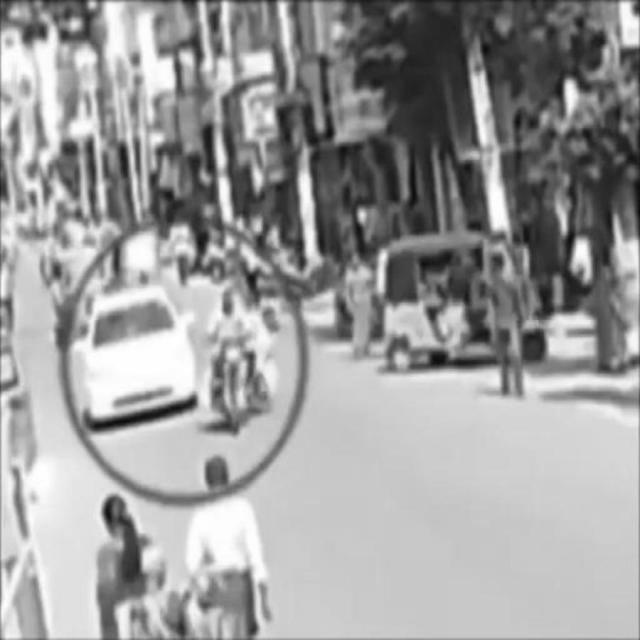vehicle: (387, 233, 547, 364), (87, 291, 197, 431), (207, 285, 261, 433)
